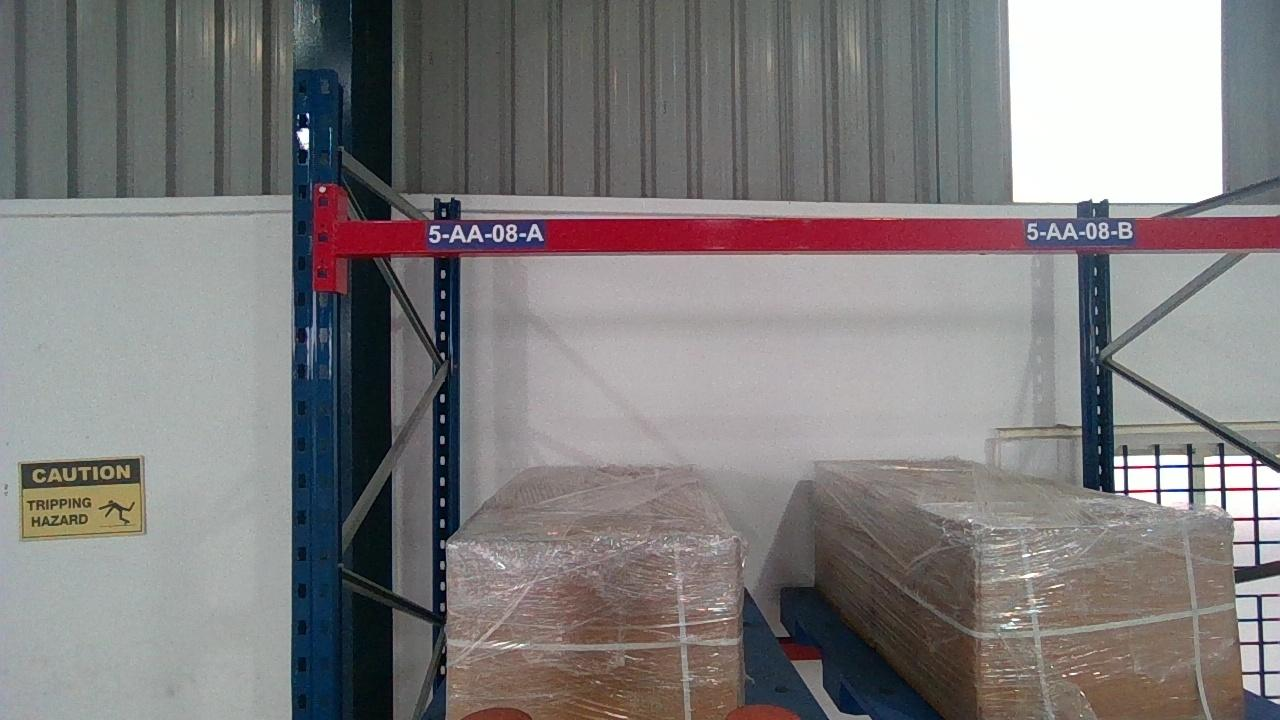h_rack: (335, 214, 1278, 253)
